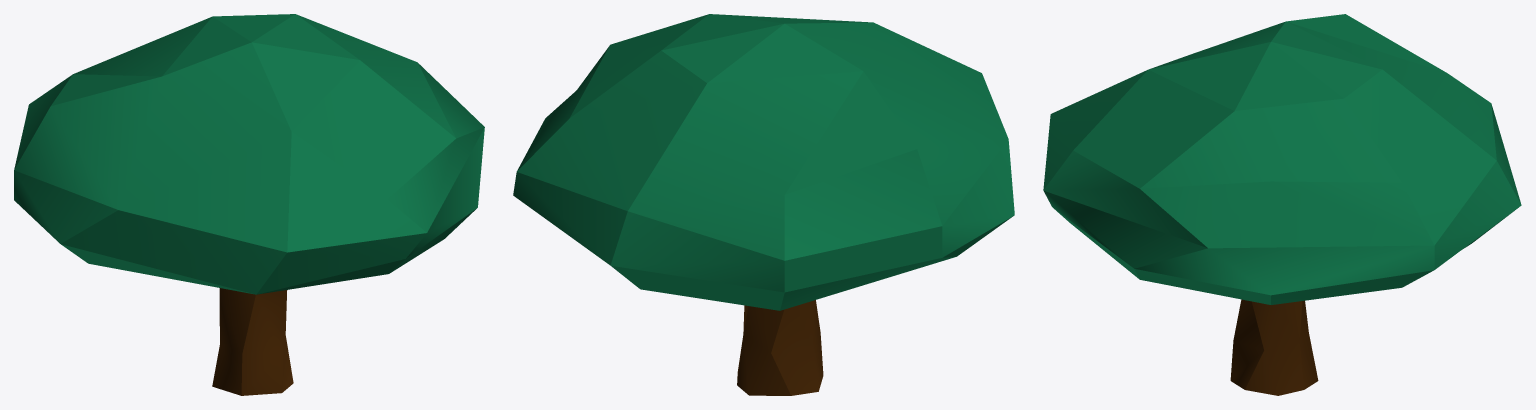
The model's file is fruit-tree.fbx.
The picture shows the model from 3 angles, left to right: view 1: azimuth 30°, elevation 25°; view 2: azimuth 150°, elevation 25°; view 3: azimuth 270°, elevation 25°; orthographic projection. The views are drawn at different scales.
Visible parts, largest first — view 1: leaves, trunk; view 2: leaves, trunk; view 3: leaves, trunk.
Part boxes in pixels (box(x1,y1,x2,y2)): leaves: box(14, 14, 484, 294); trunk: box(212, 288, 293, 395); leaves: box(513, 14, 1014, 310); trunk: box(737, 300, 823, 395); leaves: box(1043, 14, 1521, 304); trunk: box(1230, 299, 1318, 395).
Bounding box in the file's own units: 742 × 554 × 719.
